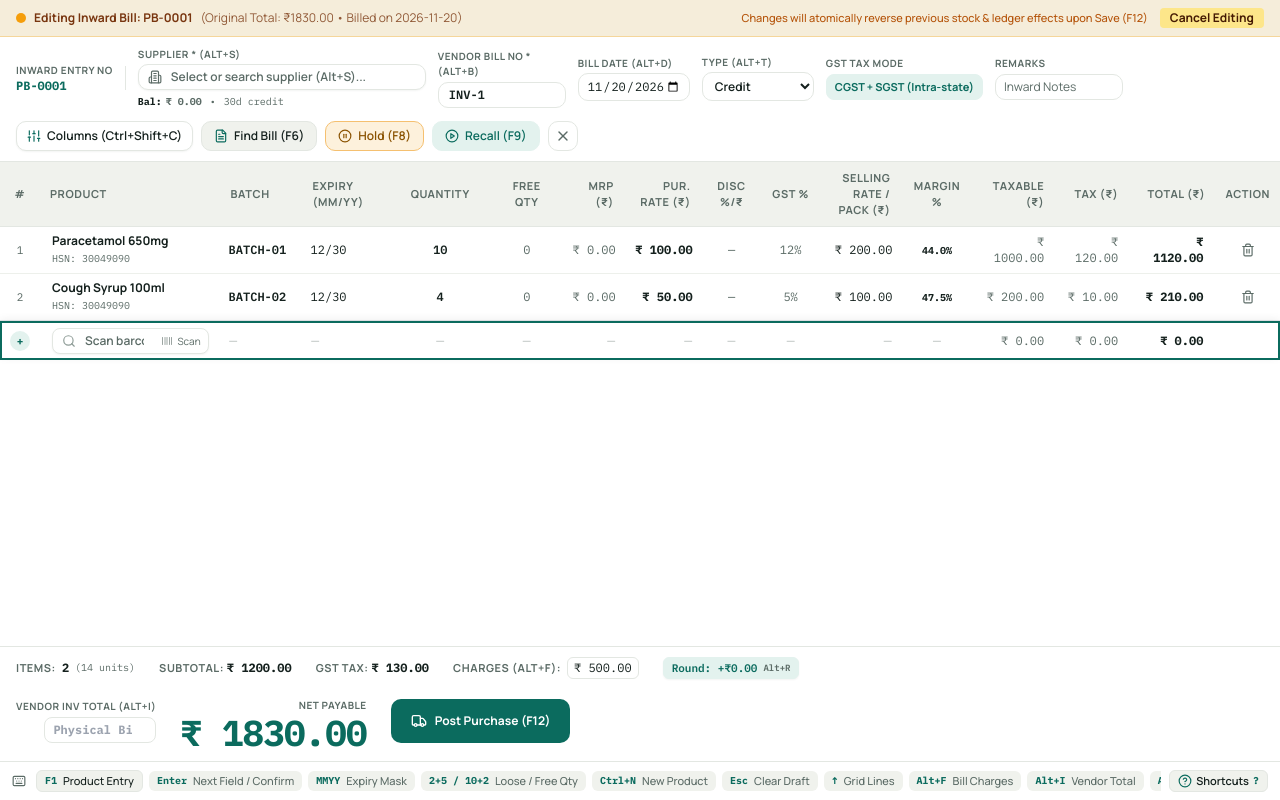
Test case: purchase voucher printing on the entry screen (PRN-007) › prints a pre-CR-C bill's freight scalar as the charge row the paper needs
This screenshot has width=1280, height=800.
Later steps or results of the test are not shown.
Press f
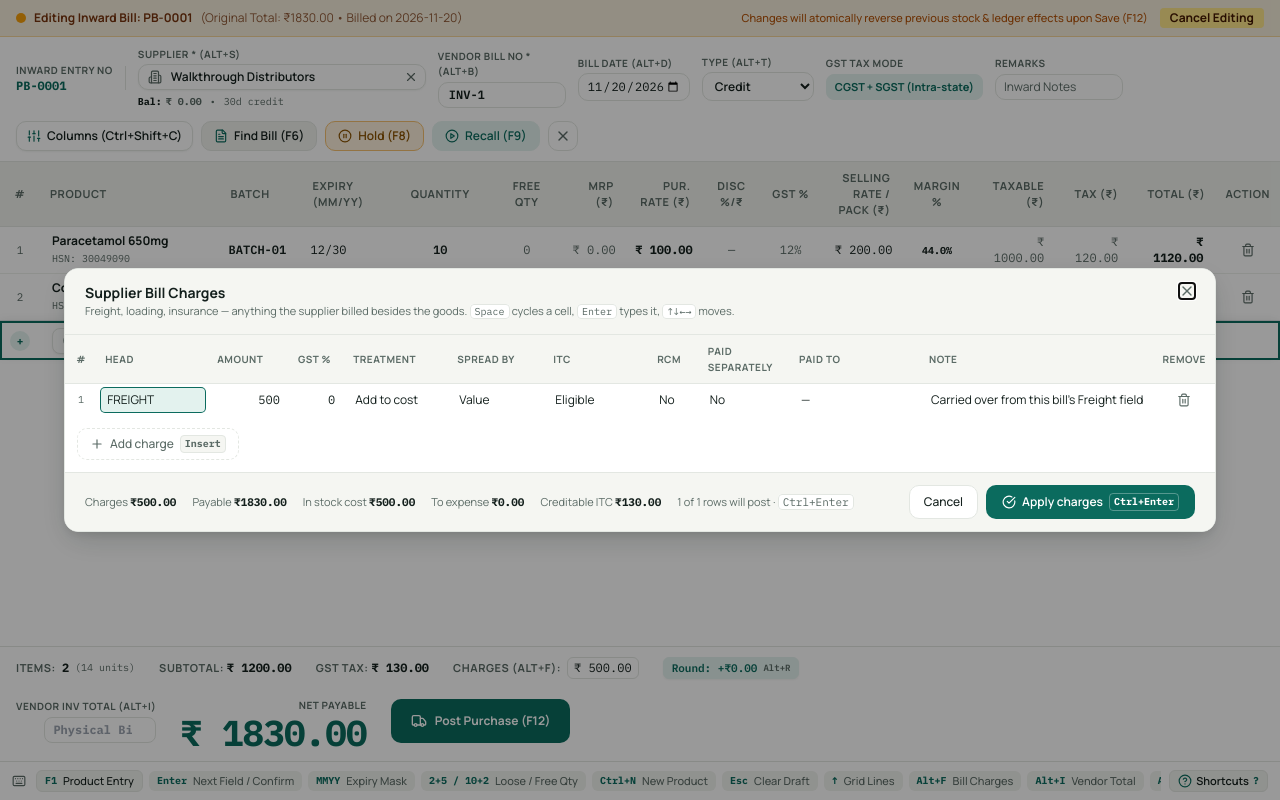
Expected: the text "FREIGHT" is shown, [101, 388, 205, 412]
Press Enter in the button named "Close", box [1179, 283, 1195, 299]
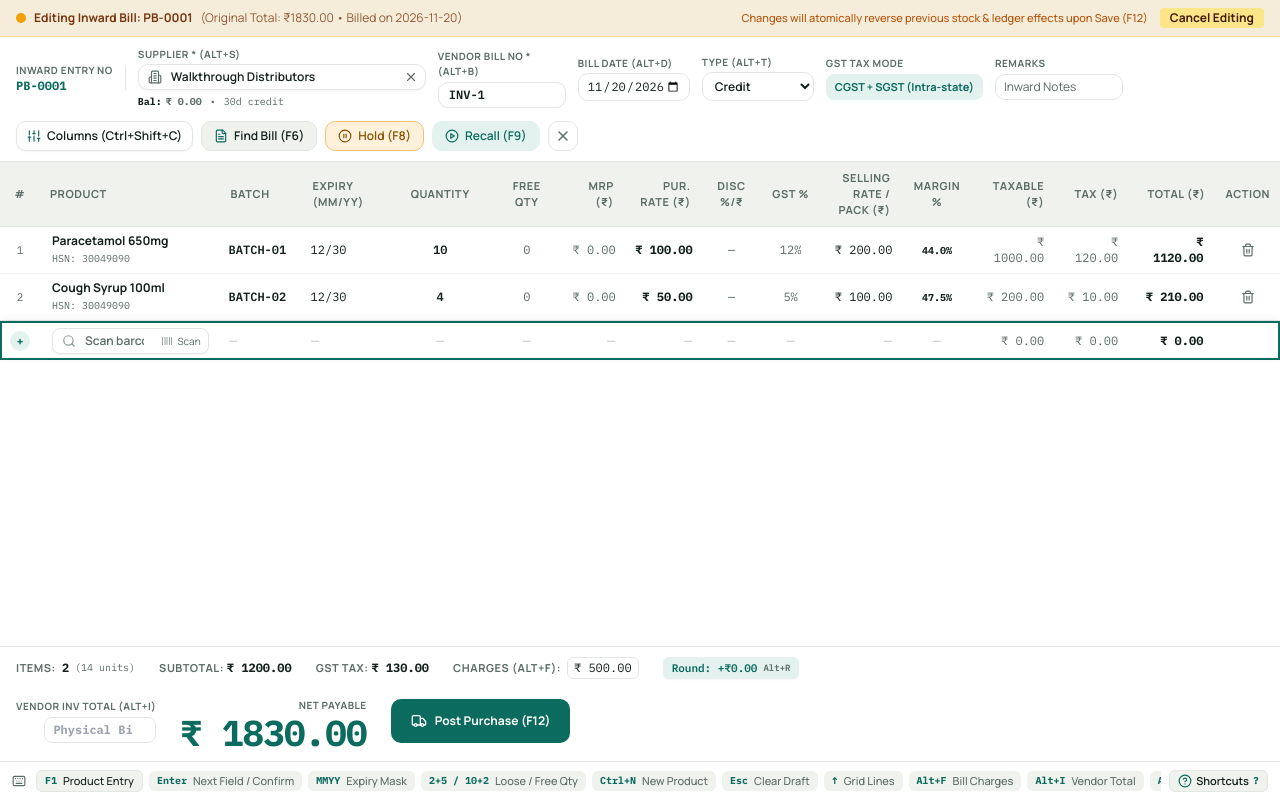
Press b
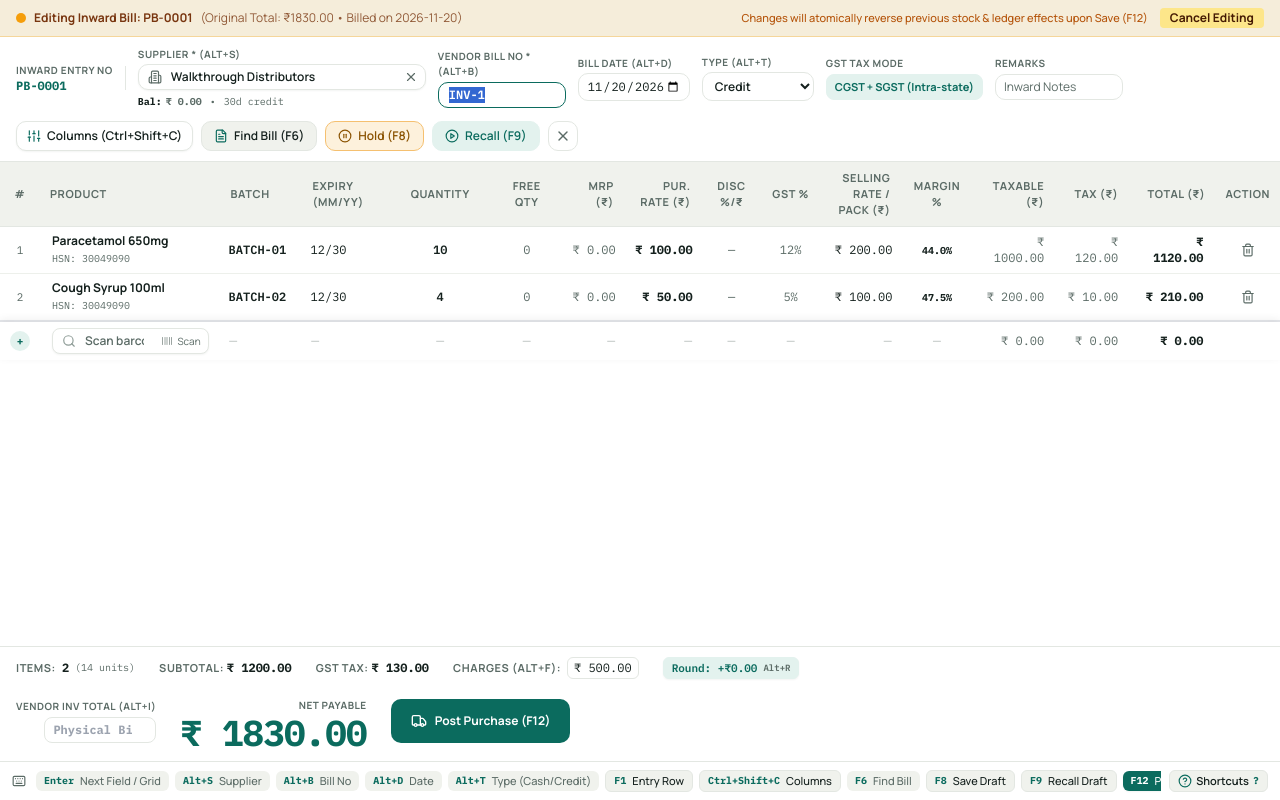
Replace the text in the 1st field with "INV-77": x=502, y=94 [438, 82, 566, 108]
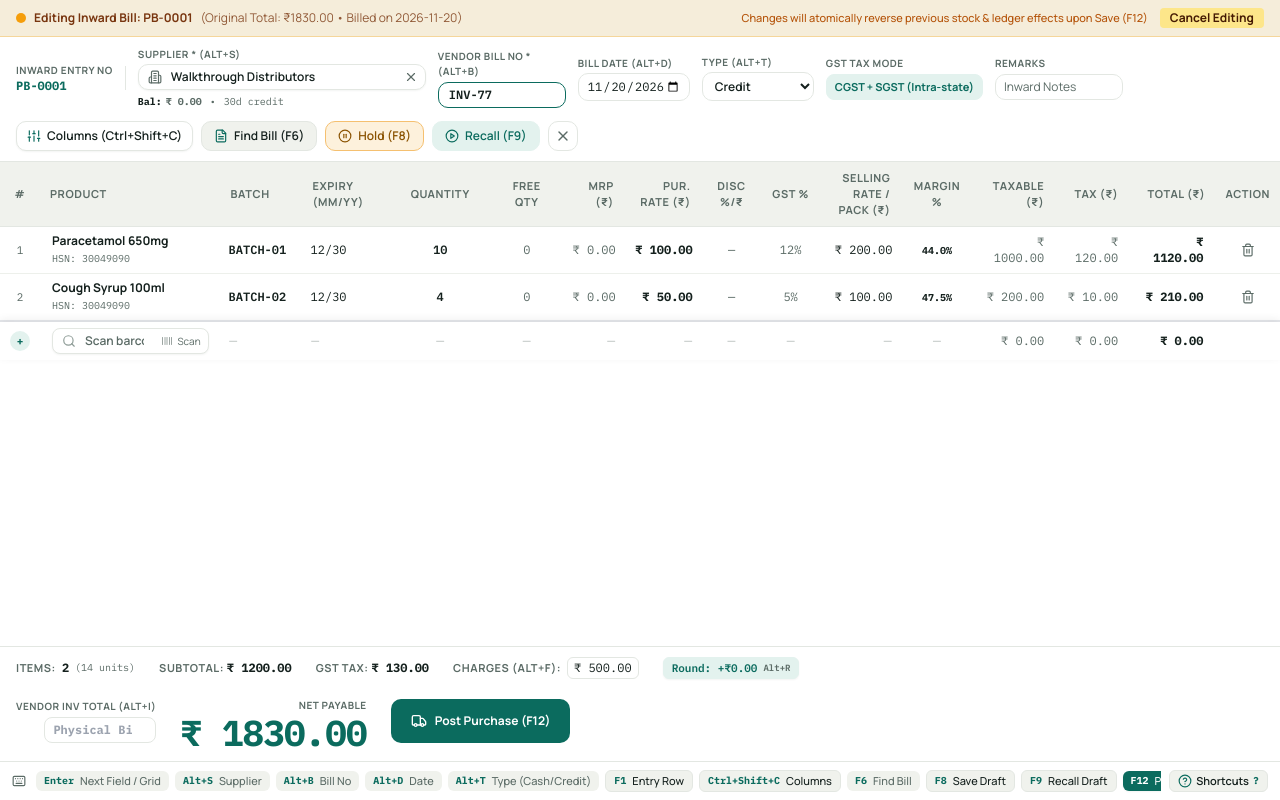
Press F12 in the 1st field, box [438, 82, 566, 108]
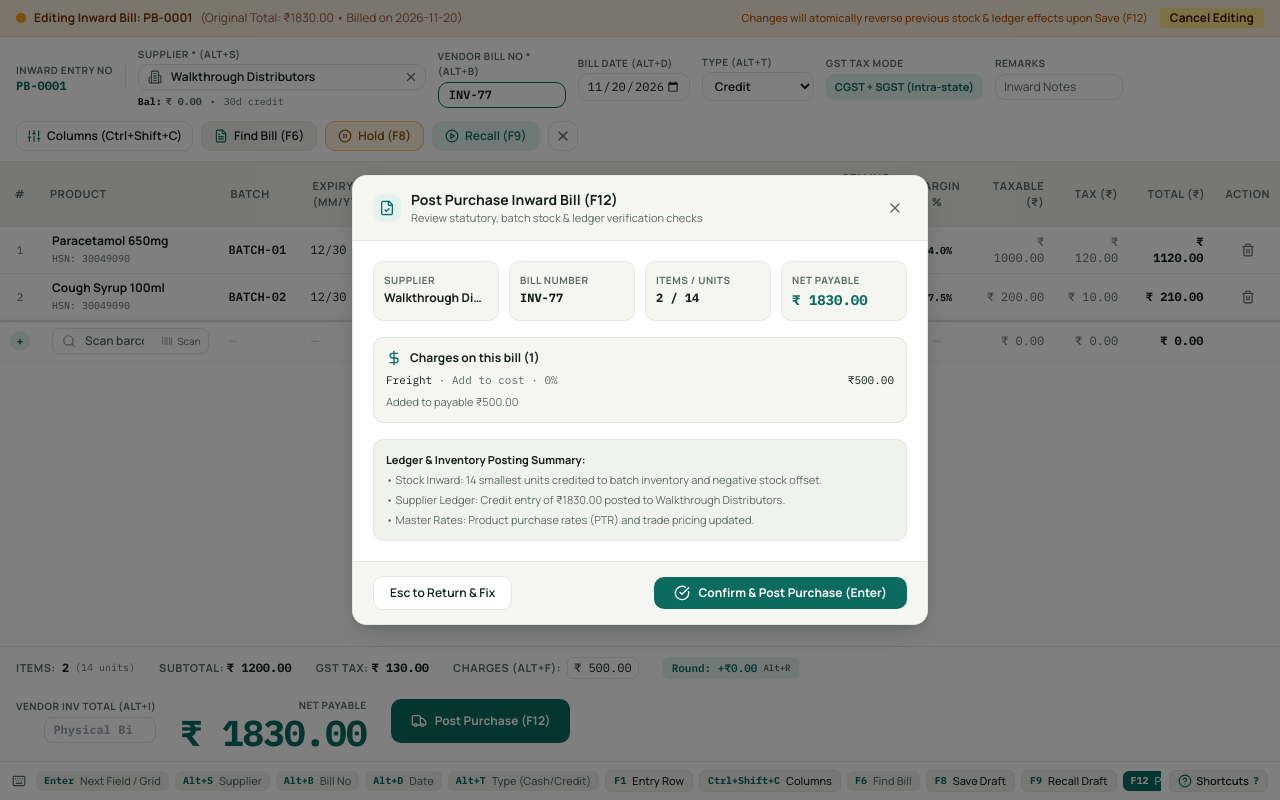
Expected: the heading "Post Purchase Inward Bill (F12)" is shown, [411, 190, 618, 209]
